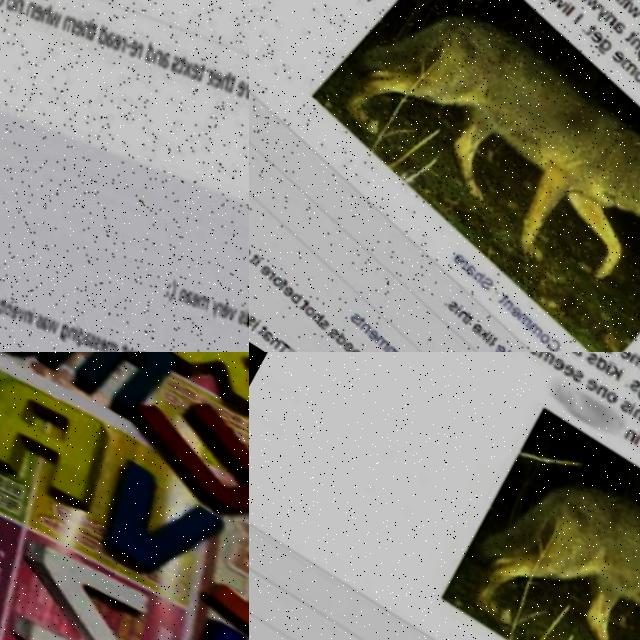D: (591, 352, 608, 367)
E: (582, 371, 599, 389), (559, 358, 575, 373), (549, 352, 565, 367)
G: (633, 378, 640, 396)
H: (628, 399, 640, 417)
I: (192, 527, 249, 640), (629, 426, 640, 441), (602, 356, 612, 370), (625, 397, 635, 411)
K: (604, 358, 622, 376)
M: (26, 352, 182, 427), (626, 352, 640, 364), (534, 352, 553, 360)
N: (620, 423, 636, 439), (594, 379, 607, 394)
O: (602, 384, 618, 400)
R: (0, 354, 127, 519)
S: (615, 393, 631, 408), (625, 373, 640, 388), (569, 364, 583, 379), (582, 352, 596, 361)
U: (106, 366, 249, 540)
V: (74, 452, 229, 601)
X: (149, 352, 249, 408)
Z: (0, 518, 175, 640)
